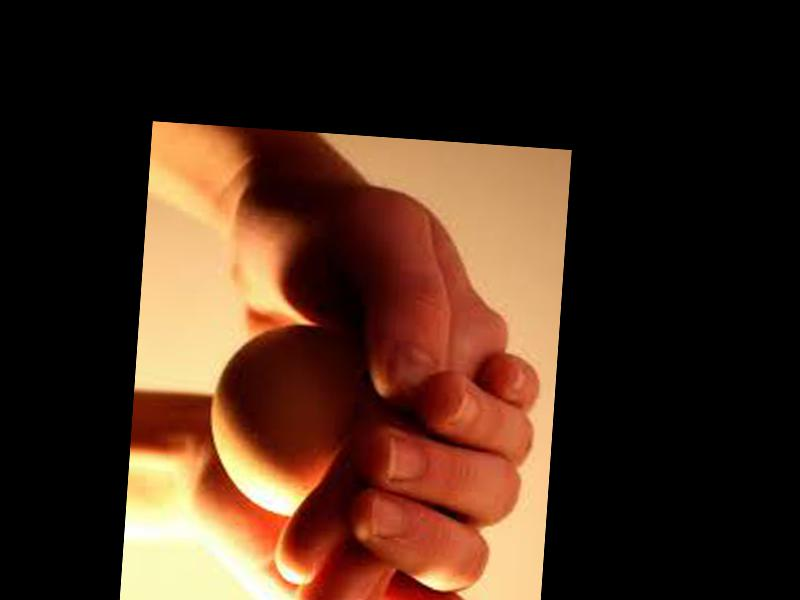Eggs: (204, 317, 364, 520)
